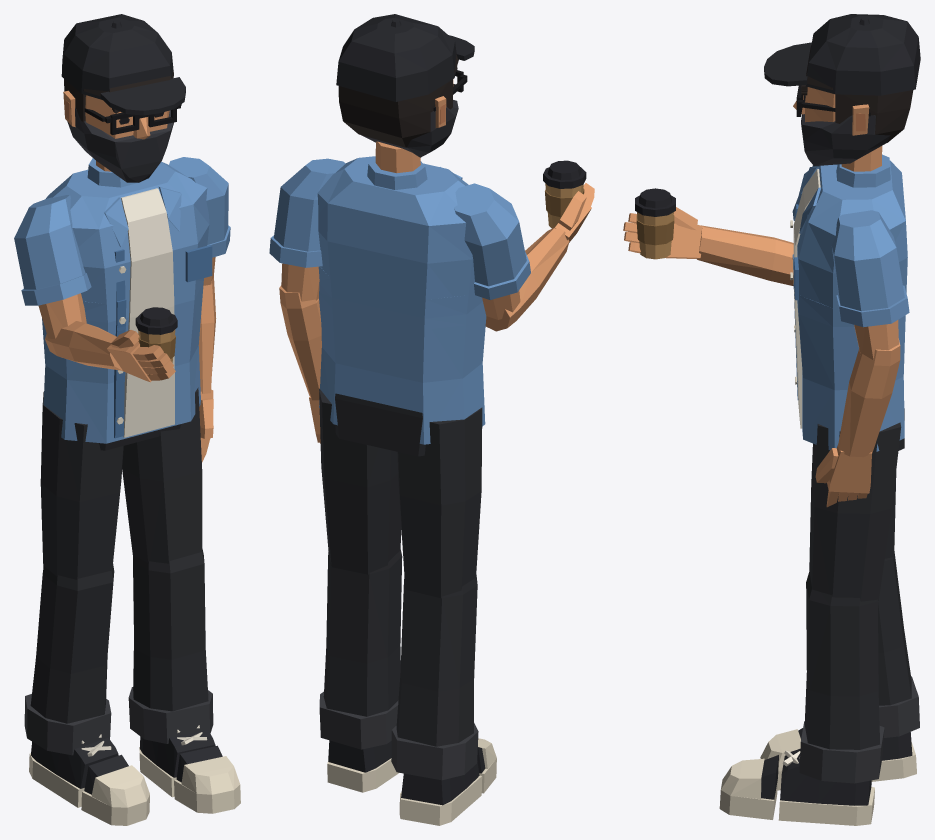
Rendered from npc.glb.
The picture shows the model from 3 angles, left to right: view 1: azimuth 30°, elevation 25°; view 2: azimuth 150°, elevation 25°; view 3: azimuth 270°, elevation 25°; orthographic projection. The views are drawn at different scales.
Parts seen in each view (by area): view 1: top_T01_overshirt_chest, pants_P01_thigh_R, pants_P01_shin_L, pants_P01_shin_R, pants_P01_thigh_L, hat_A01_cap, top_T01_overshirt_waist, top_T01_sleeve_R, top_T01_undershirt_chest, top_T01_undershirt_waist, beard_B02, shoes_S01_toe_sole_R (+21 smaller); view 2: top_T01_overshirt_chest, top_T01_overshirt_waist, pants_P01_thigh_R, pants_P01_shin_R, pants_P01_shin_L, pants_P01_thigh_L, hat_A01_cap, top_T01_sleeve_R, top_T01_sleeve_L, hair_R04_cap, pants_P01_pelvis, pants_P01_cuff_R (+14 smaller); view 3: pants_P01_shin_L, pants_P01_thigh_L, top_T01_overshirt_chest, hat_A01_cap, top_T01_sleeve_L, top_T01_overshirt_waist, arm_L_lower, arm_R_lower, pants_P01_shin_R, beard_B02, pants_P01_cuff_L, shoes_S01_upper_L (+18 smaller).
Part boxes in pixels (x1,y1,x2,y2): top_T01_overshirt_chest: (46, 158, 209, 332); pants_P01_thigh_R: (40, 392, 123, 579); pants_P01_shin_L: (133, 549, 208, 711); pants_P01_shin_R: (30, 564, 114, 723); pants_P01_thigh_L: (122, 387, 202, 563); hat_A01_cap: (61, 14, 185, 115); top_T01_overshirt_waist: (42, 278, 203, 443); top_T01_sleeve_R: (14, 195, 91, 305); top_T01_undershirt_chest: (121, 188, 173, 319); top_T01_undershirt_waist: (123, 287, 174, 437); beard_B02: (67, 107, 173, 182); shoes_S01_toe_sole_R: (81, 765, 149, 825); top_T01_overshirt_chest: (317, 156, 484, 329); top_T01_overshirt_waist: (318, 266, 486, 444); pants_P01_thigh_R: (397, 407, 482, 598); pants_P01_shin_R: (396, 575, 477, 746); pants_P01_shin_L: (323, 549, 402, 716); pants_P01_thigh_L: (319, 388, 401, 574); hat_A01_cap: (336, 14, 474, 101); top_T01_sleeve_R: (454, 183, 530, 299); top_T01_sleeve_L: (269, 158, 345, 267); hair_R04_cap: (338, 79, 452, 147); pants_P01_pelvis: (335, 393, 425, 456); pants_P01_cuff_R: (391, 723, 478, 780); pants_P01_shin_L: (804, 572, 880, 749); pants_P01_thigh_L: (809, 422, 901, 601); top_T01_overshirt_chest: (794, 154, 907, 337); hat_A01_cap: (764, 14, 920, 95); top_T01_sleeve_L: (831, 210, 909, 327); top_T01_overshirt_waist: (797, 295, 905, 451); arm_L_lower: (838, 338, 900, 457); arm_R_lower: (696, 225, 793, 285); pants_P01_shin_R: (878, 551, 911, 705); beard_B02: (801, 114, 890, 166); pants_P01_cuff_L: (799, 721, 884, 783); shoes_S01_upper_L: (780, 748, 871, 805).
Size of the model in its own units: 0.5399 by 1.79 by 0.6199.
